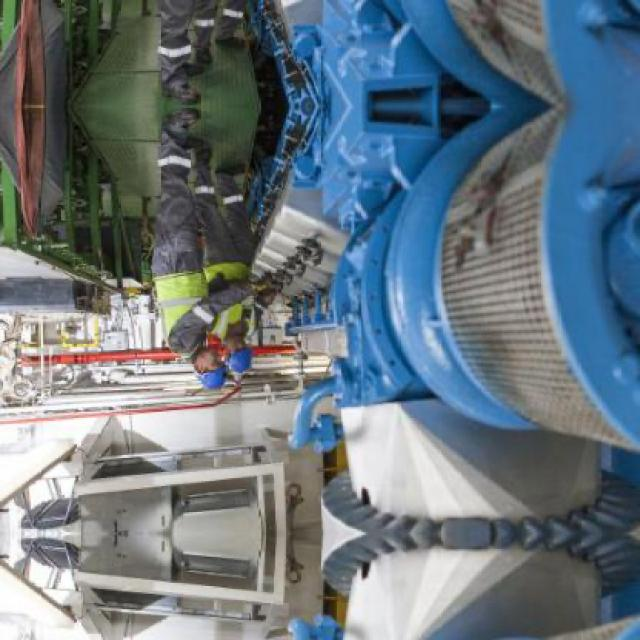con casco: (203, 304, 306, 401), (185, 318, 228, 418)
